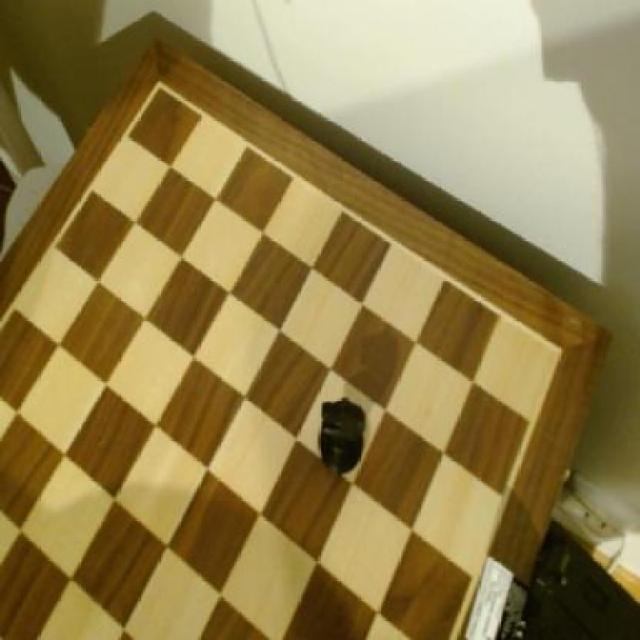black-king: (318, 388, 374, 486)
